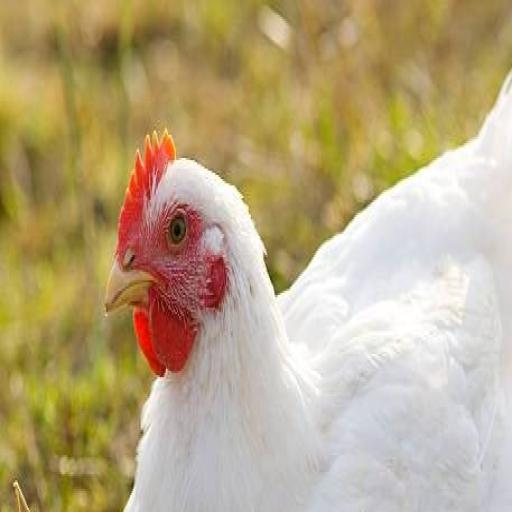healthy: (81, 116, 233, 378)
